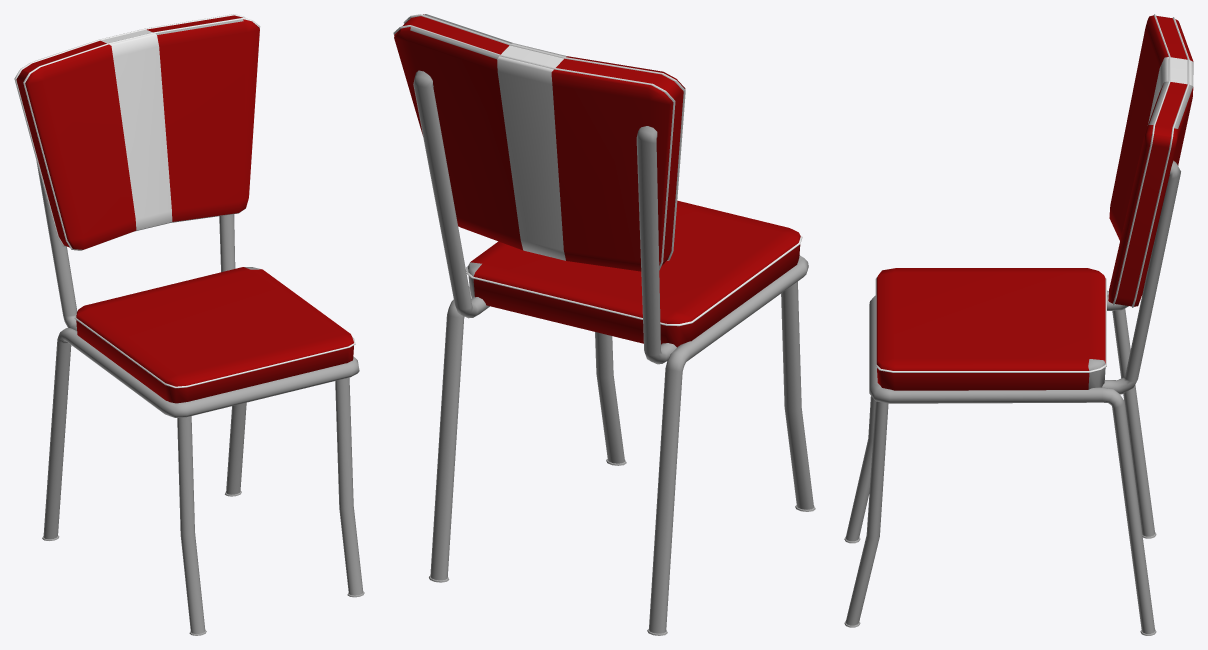
File: chair_LP.fbx
The picture shows the model from 3 angles, left to right: view 1: azimuth 30°, elevation 25°; view 2: azimuth 150°, elevation 25°; view 3: azimuth 270°, elevation 25°; orthographic projection. The views are drawn at different scales.
Parts seen in each view (by area): view 1: dchair2; view 2: dchair2; view 3: dchair2.
Part boxes in pixels (box(x1,y1,x2,y2)): dchair2: box(14, 14, 364, 635); dchair2: box(393, 14, 815, 635); dchair2: box(844, 14, 1193, 635).
Bounding box in the file's own units: 8.63 × 16.46 × 10.12.
